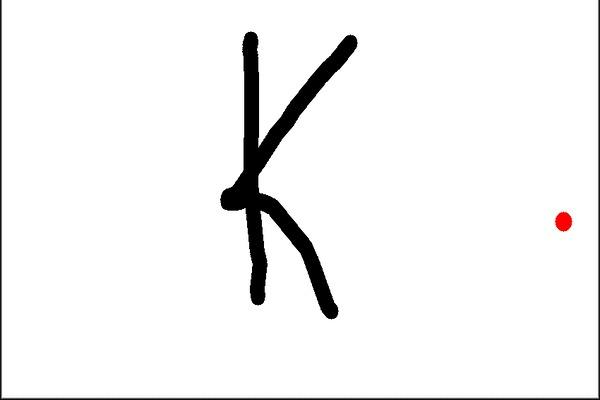K: (214, 21, 362, 329)
